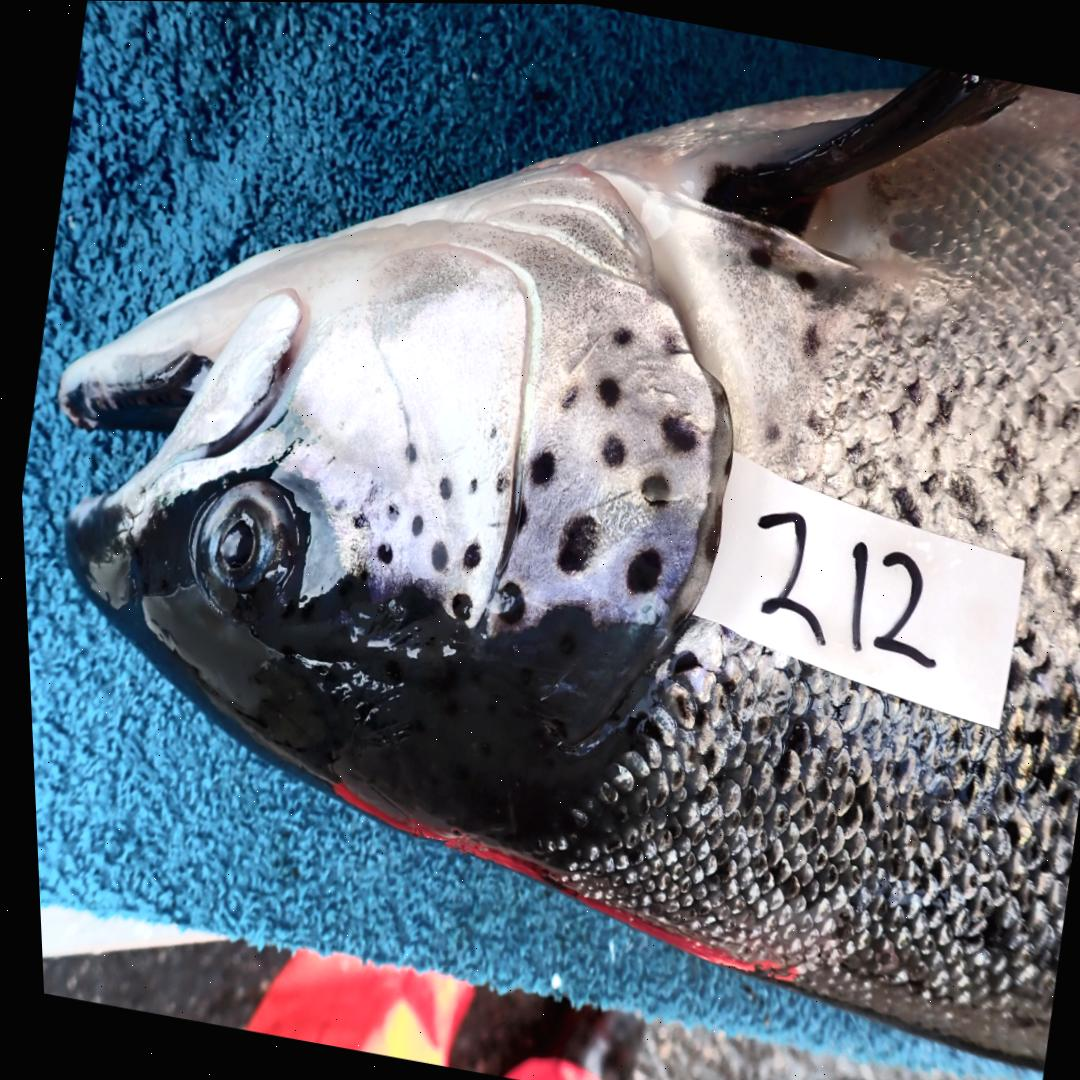spot: (552, 514, 593, 572), (621, 547, 655, 593), (656, 414, 693, 451), (532, 605, 590, 627), (492, 581, 519, 624), (636, 473, 666, 503), (526, 450, 551, 484), (597, 433, 622, 466), (594, 376, 617, 407), (444, 592, 467, 621), (457, 542, 476, 569), (510, 499, 524, 533), (557, 384, 575, 410), (426, 542, 443, 569), (371, 543, 387, 563), (434, 477, 448, 499), (610, 328, 629, 344), (347, 511, 364, 528), (406, 514, 418, 535), (401, 442, 412, 462), (383, 503, 395, 521), (491, 473, 503, 491), (484, 425, 493, 439), (465, 477, 473, 491)
